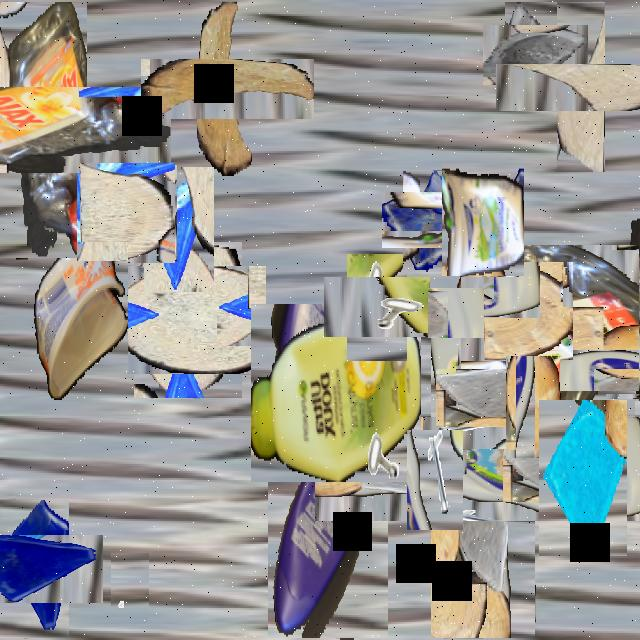glass: (539, 400, 627, 556), (0, 517, 86, 620), (144, 167, 214, 292), (494, 13, 576, 97), (447, 358, 528, 438), (392, 182, 470, 259), (0, 527, 47, 606)
metal: (335, 266, 419, 349), (407, 430, 463, 530), (111, 553, 149, 620)
plastic: (372, 359, 594, 580), (251, 304, 421, 482), (268, 386, 388, 638), (477, 228, 640, 407), (0, 44, 129, 215), (34, 242, 128, 402), (442, 164, 524, 278)
wood: (122, 254, 254, 386), (168, 31, 286, 148), (526, 32, 636, 142), (78, 165, 176, 262), (481, 264, 575, 358), (441, 274, 519, 352), (506, 356, 560, 458), (620, 379, 640, 413)
